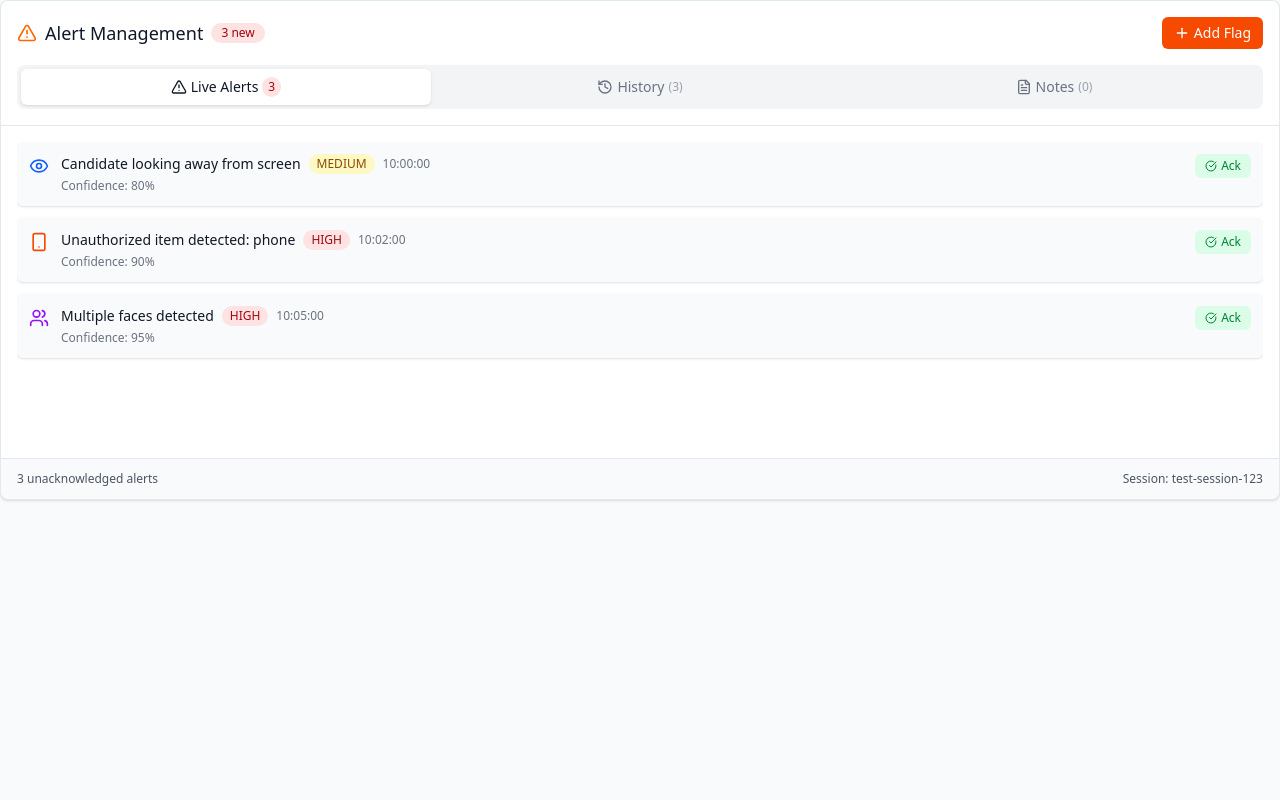
Test: AlertManagementPanel › Manual Flag Functionality › shows manual flag form when Add Flag button is clicked
Step 1. Click the button with test id "toggle-manual-flag" → {"x": 1212, "y": 33}, box [1162,17,1263,49]
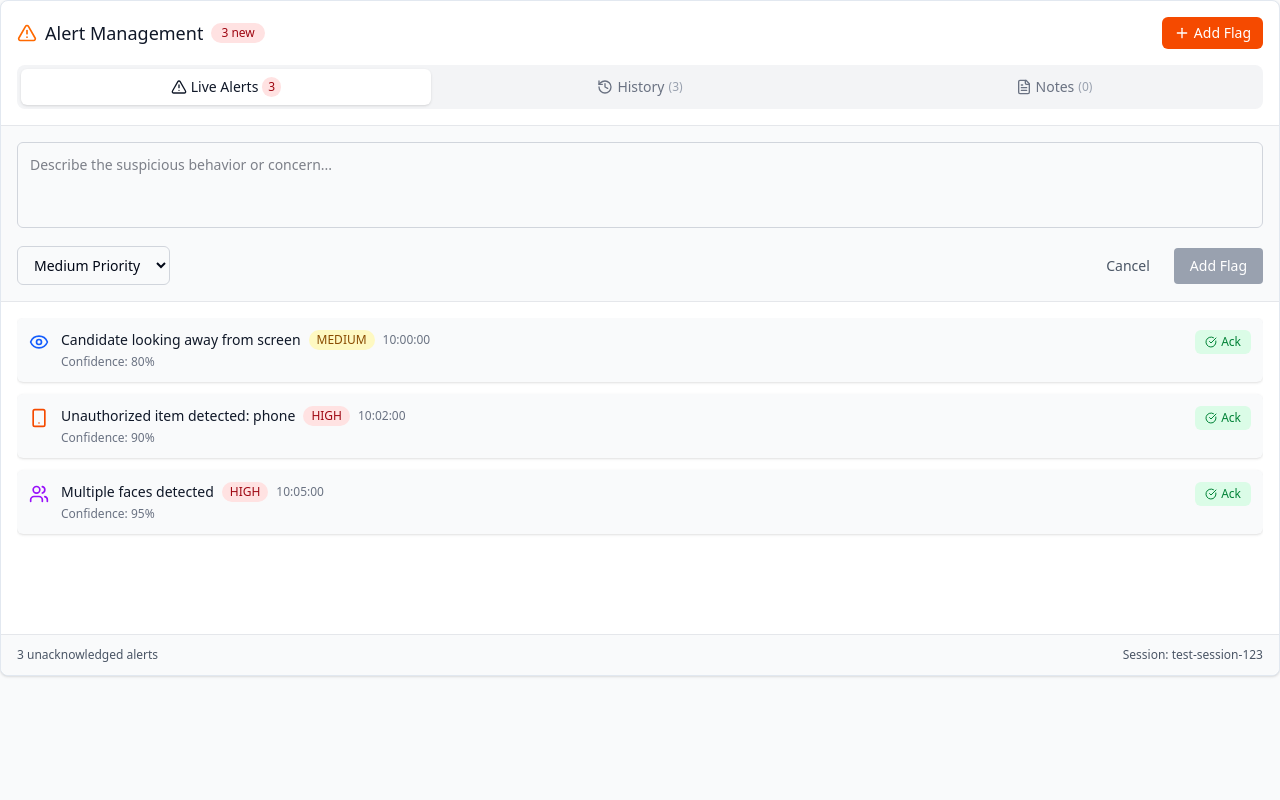
Check: the text box with placeholder "Describe the suspicious behavior or concern..." is shown, box [17,142,1263,228]
Check: the dropdown showing "Medium Priority" is shown, box [17,246,170,285]
